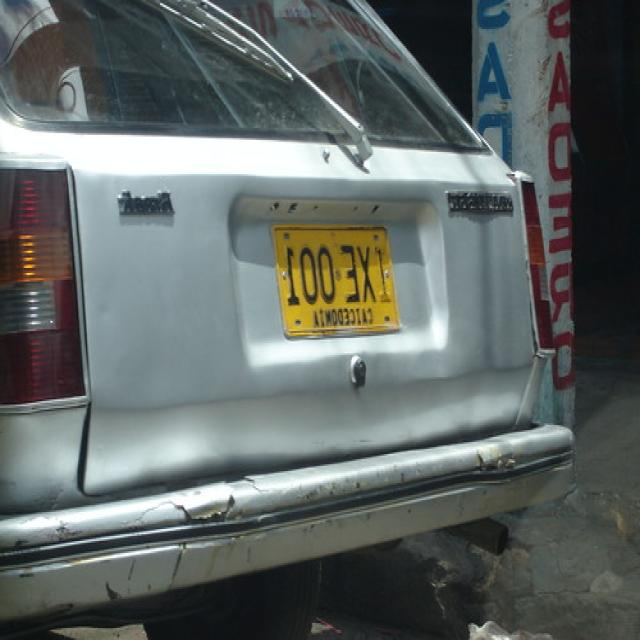placas: (274, 232, 395, 308)
